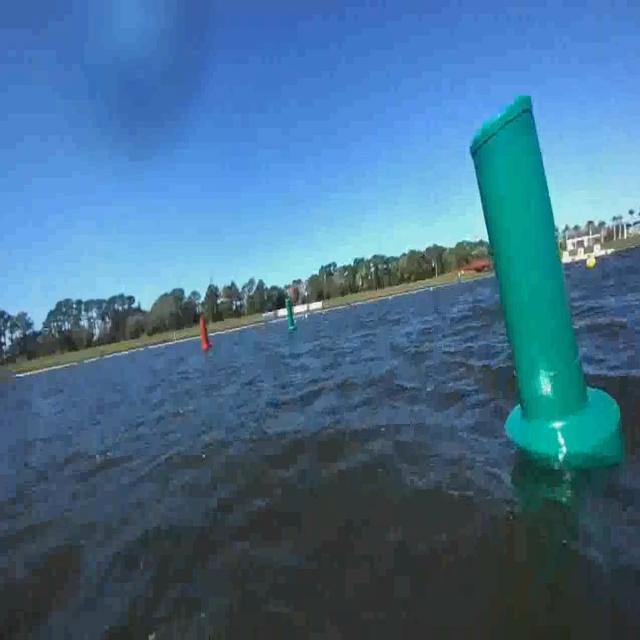green-column-buoy: (458, 81, 634, 479), (285, 299, 297, 335)
red-column-buoy: (200, 316, 212, 354)
